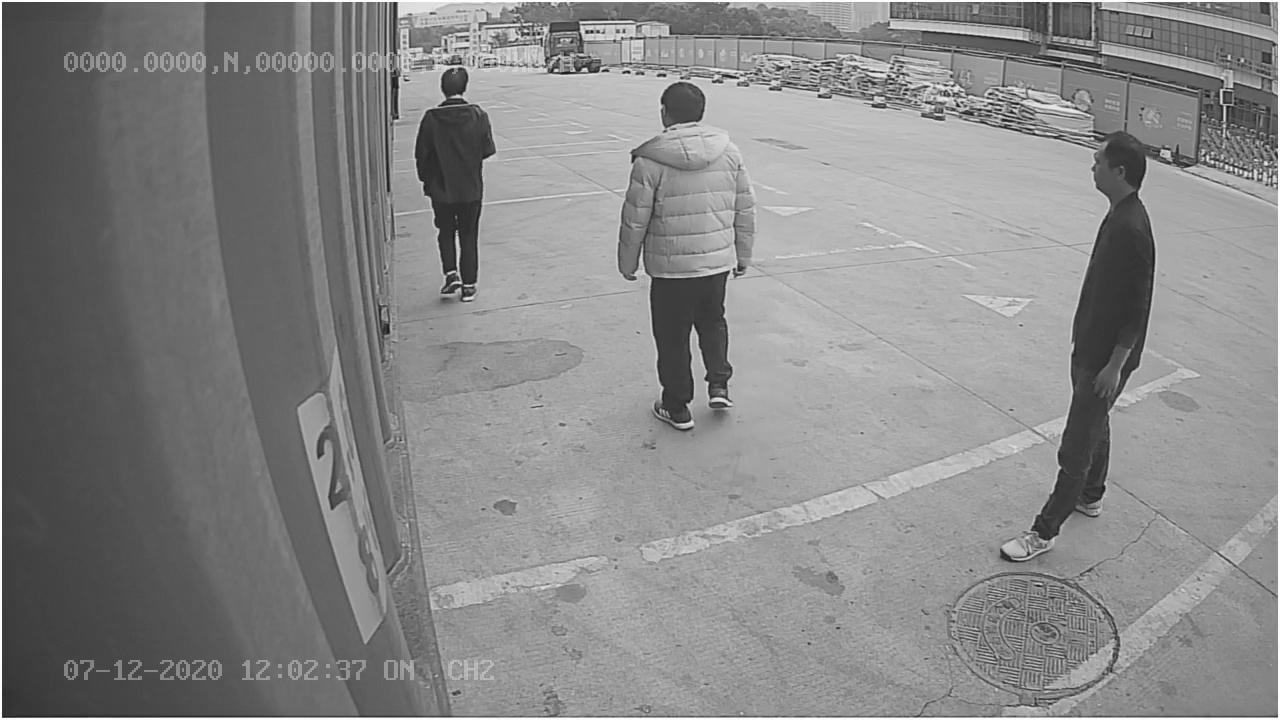person: (998, 129, 1160, 563), (618, 74, 758, 435), (412, 67, 502, 305)
